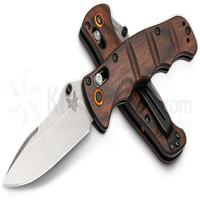knife: (1, 20, 188, 192)
